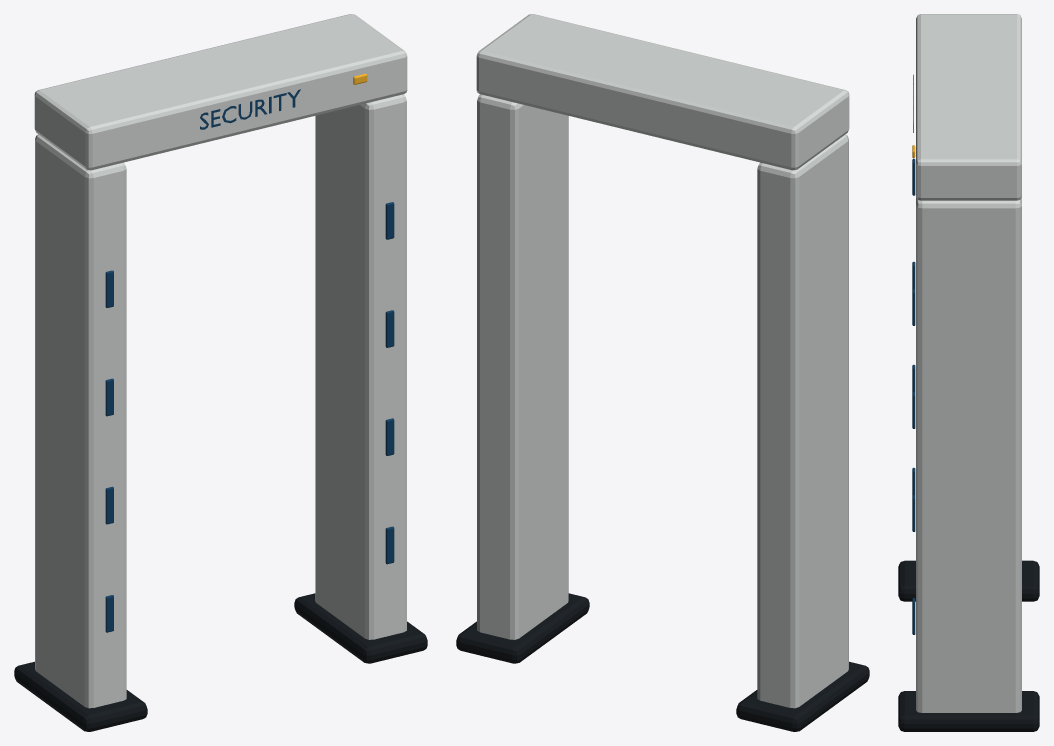
3 renders of one model, left to right at view 1: azimuth 30°, elevation 25°; view 2: azimuth 150°, elevation 25°; view 3: azimuth 270°, elevation 25°, orthographic. The views are drawn at different scales.
Visible parts, largest first — view 1: PORTAL_Column, PORTAL_Column.001, PORTAL_Header, FOOT_Base, FOOT_Base.001, EDITABLE_Title; view 2: PORTAL_Column, PORTAL_Column.001, PORTAL_Header, FOOT_Base, FOOT_Base.001; view 3: PORTAL_Column.001, PORTAL_Header, FOOT_Base.001, FOOT_Base.
Part boxes in pixels (x1,y1,x2,y2): PORTAL_Column: (35, 134, 126, 708); PORTAL_Column.001: (315, 94, 406, 639); PORTAL_Header: (34, 14, 407, 170); FOOT_Base: (14, 661, 147, 731); FOOT_Base.001: (294, 593, 427, 663); EDITABLE_Title: (200, 89, 300, 129); PORTAL_Column: (757, 134, 848, 708); PORTAL_Column.001: (477, 94, 568, 639); PORTAL_Header: (476, 14, 849, 170); FOOT_Base: (736, 661, 869, 731); FOOT_Base.001: (456, 593, 589, 663); PORTAL_Column.001: (916, 196, 1021, 712); PORTAL_Header: (916, 14, 1021, 200); FOOT_Base.001: (898, 691, 1039, 731); FOOT_Base: (898, 560, 1039, 601).
Bounding box in the file's own units: 1.5 × 2.48 × 0.56.
